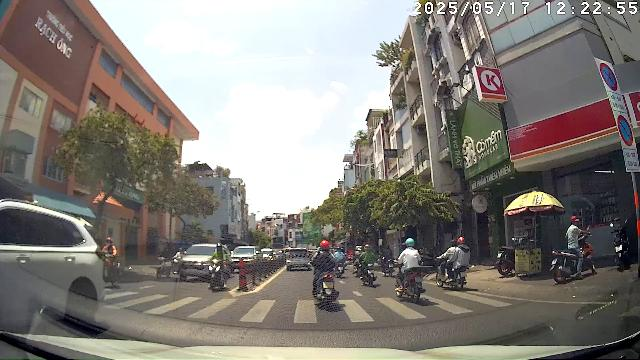130-cam-dung-va-do-xe: (600, 61, 618, 91)
131a-cam-do-xe: (618, 114, 634, 146)
